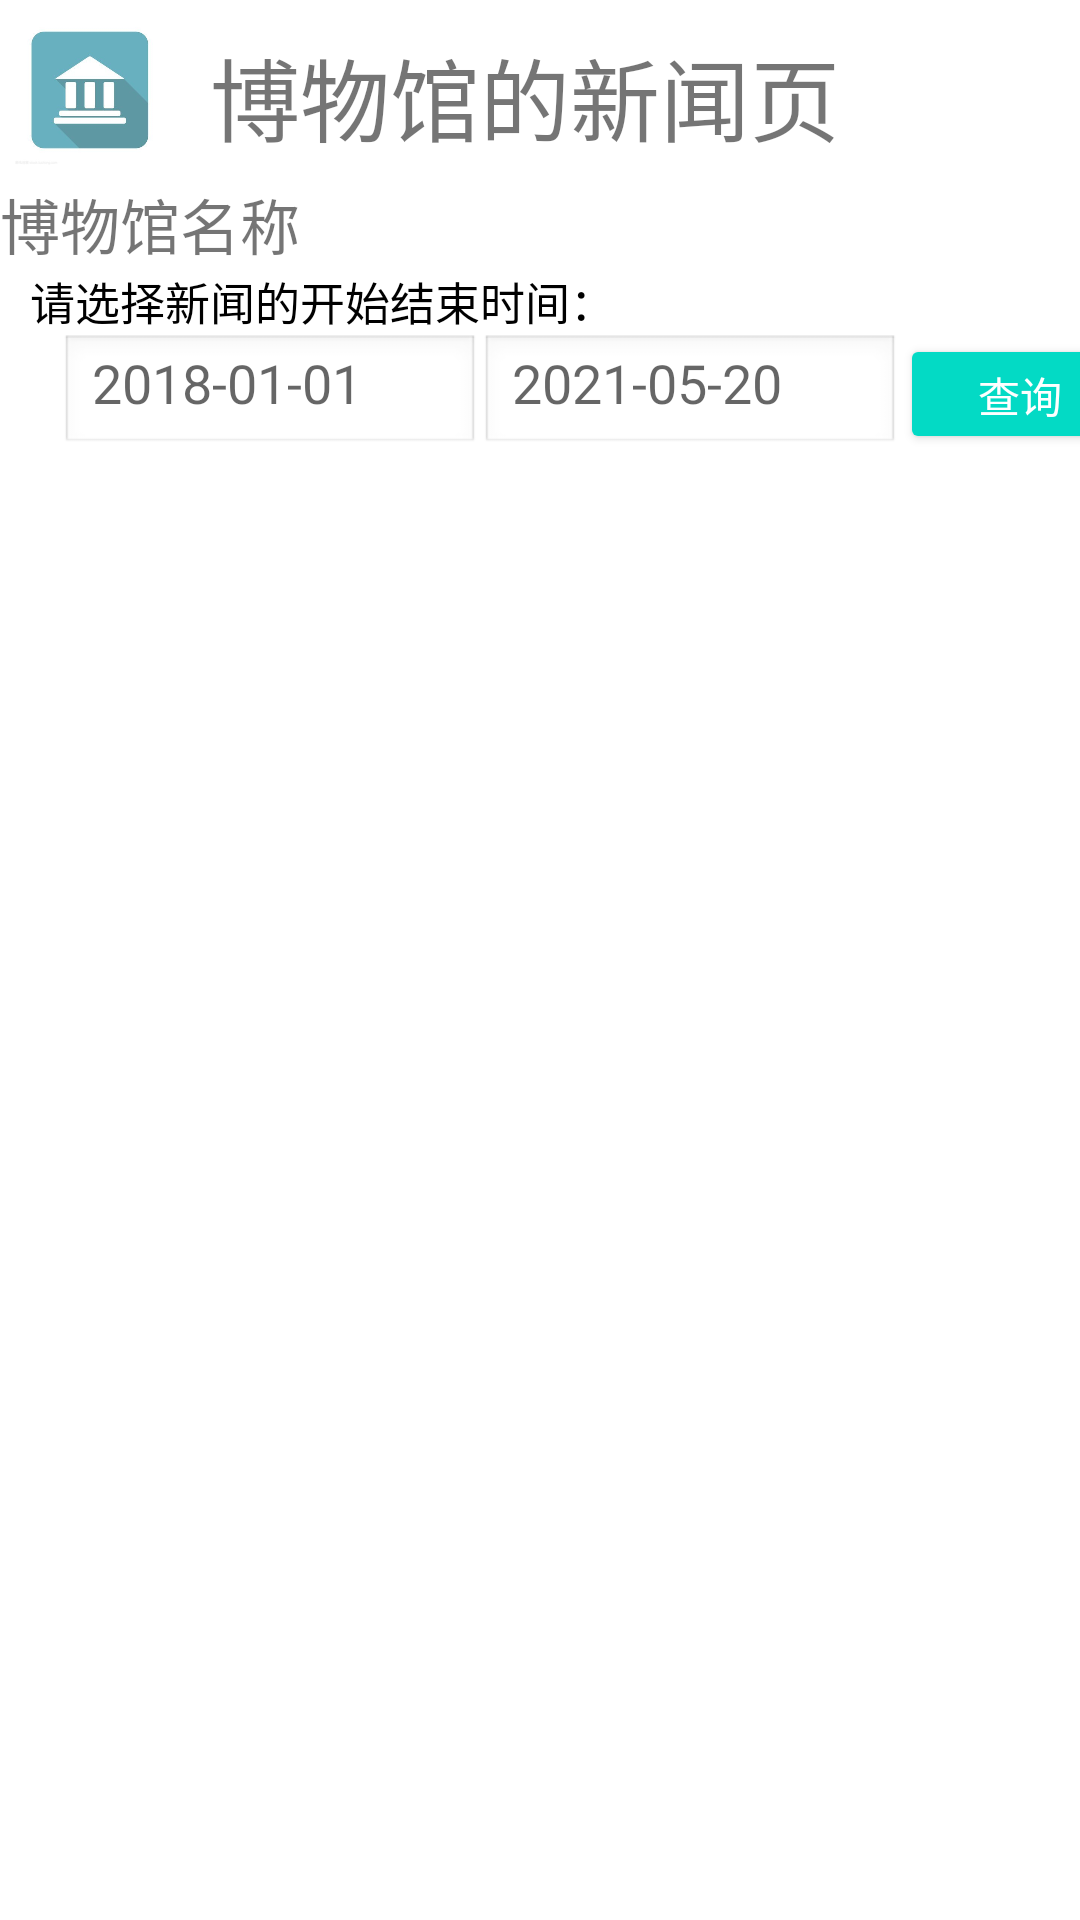

Icons on this 1080px×1920px Android screen, each with its box as region(x1, y1, x2, y2):
museumdet: region(31, 31, 149, 149)
